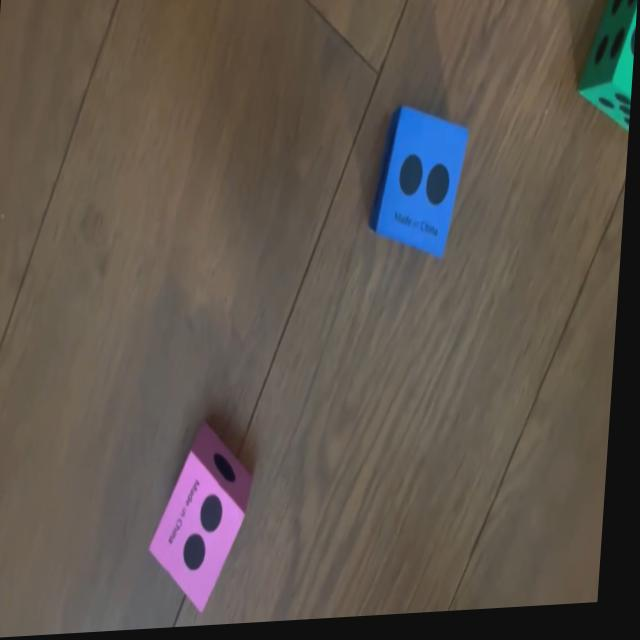blue_block: (370, 107, 470, 266)
